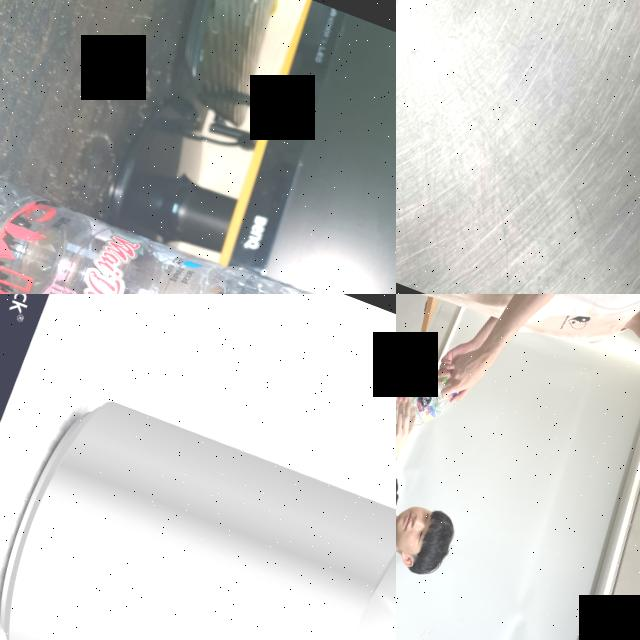bottle: (0, 120, 396, 294), (396, 366, 458, 462), (396, 356, 449, 437)
can: (0, 378, 396, 640)
